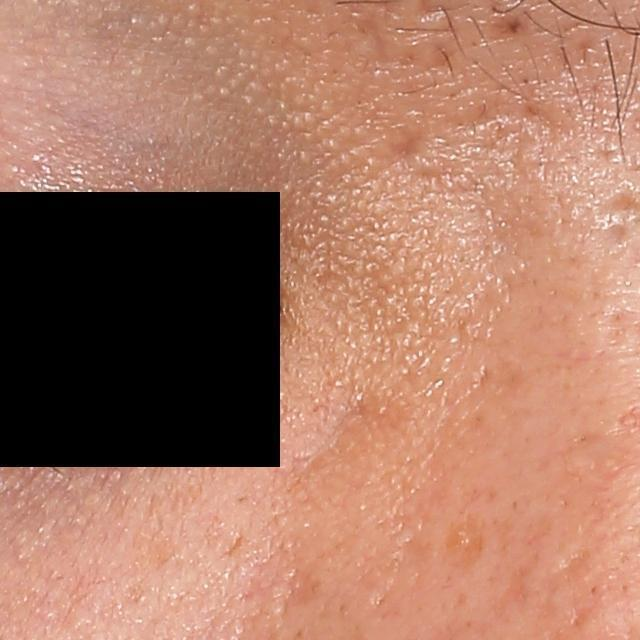atrophic_scar: (548, 540, 588, 578), (389, 128, 428, 164), (488, 14, 525, 37)
melasma: (445, 519, 484, 563)
